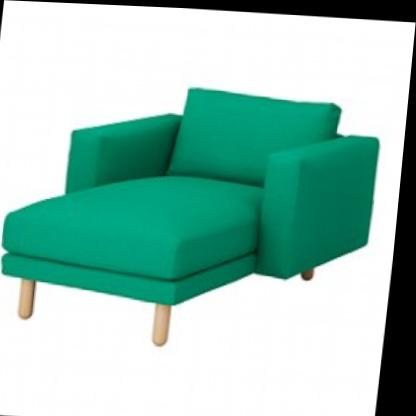Sofa: (0, 51, 392, 368)
